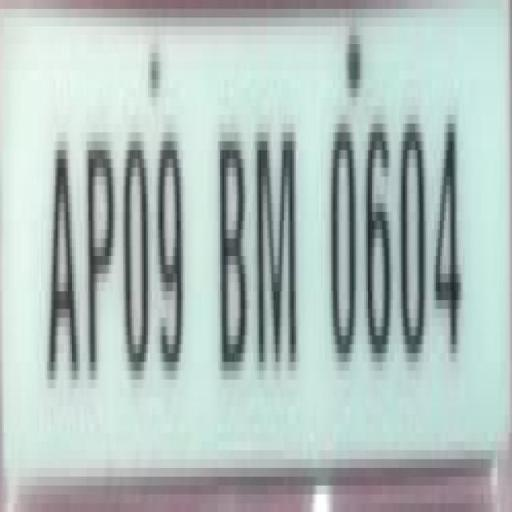number plate: (2, 0, 484, 503)
